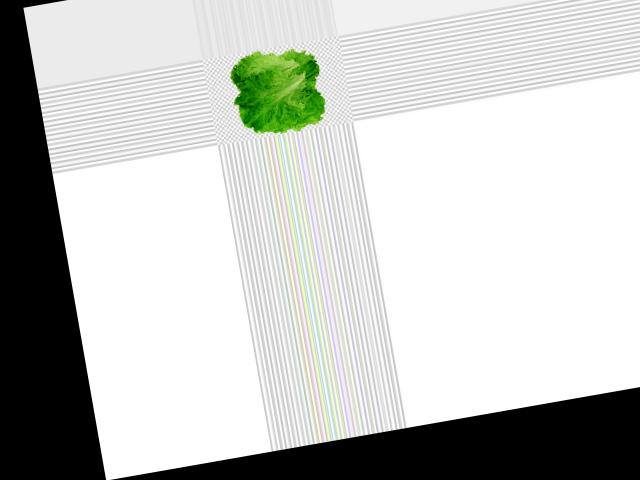lettuce: (220, 38, 335, 143)
